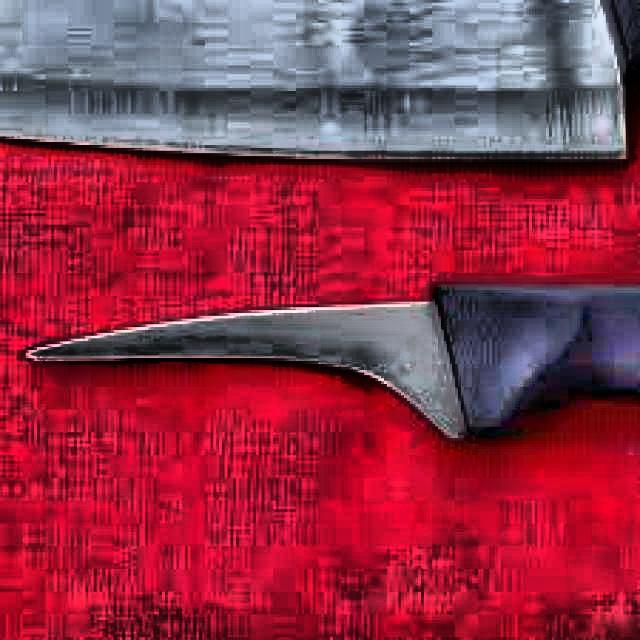knife: (27, 280, 637, 439)
